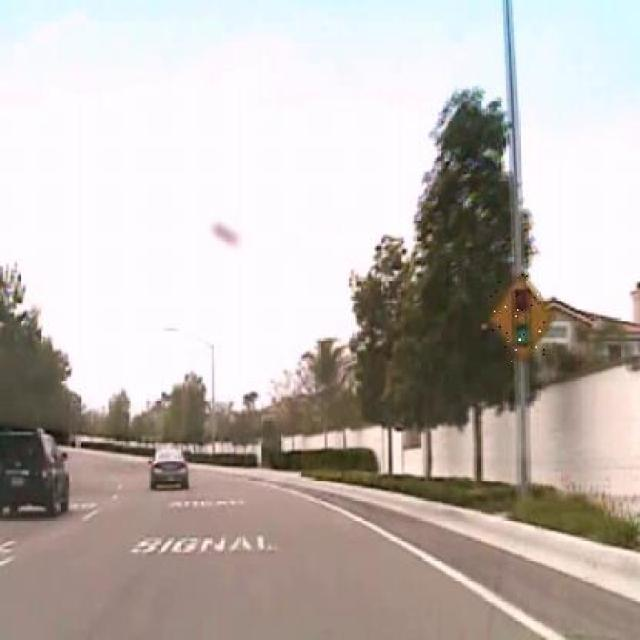signalAhead: (489, 271, 551, 364)
